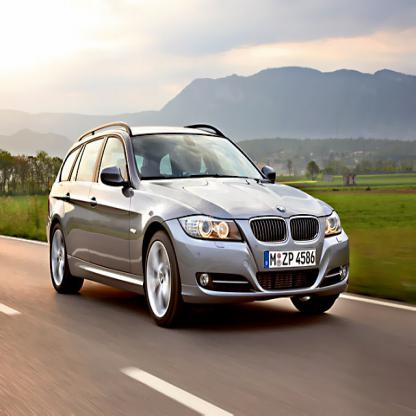Vehicle: (25, 104, 363, 372)
